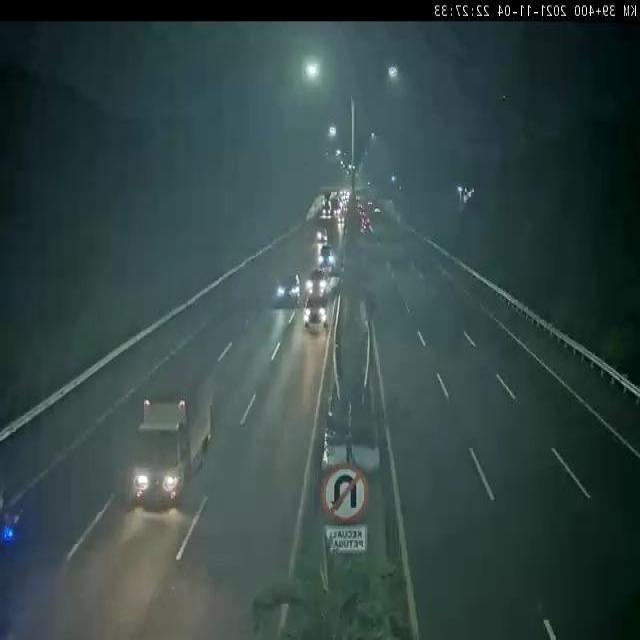Car: (275, 271, 300, 307), (303, 293, 328, 328), (306, 268, 326, 294), (318, 244, 334, 268)
Truck: (130, 361, 214, 509)
